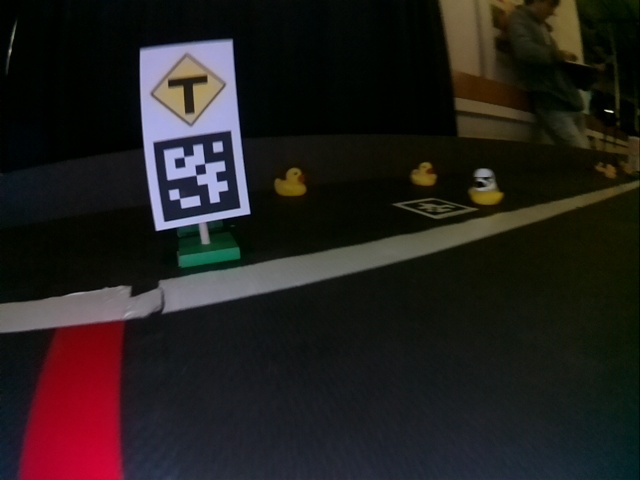Duckie: (469, 170, 500, 205), (274, 167, 305, 197), (411, 163, 436, 185)
Intersection sign: (141, 49, 232, 126)
QR code: (145, 131, 247, 223), (398, 198, 471, 219)
